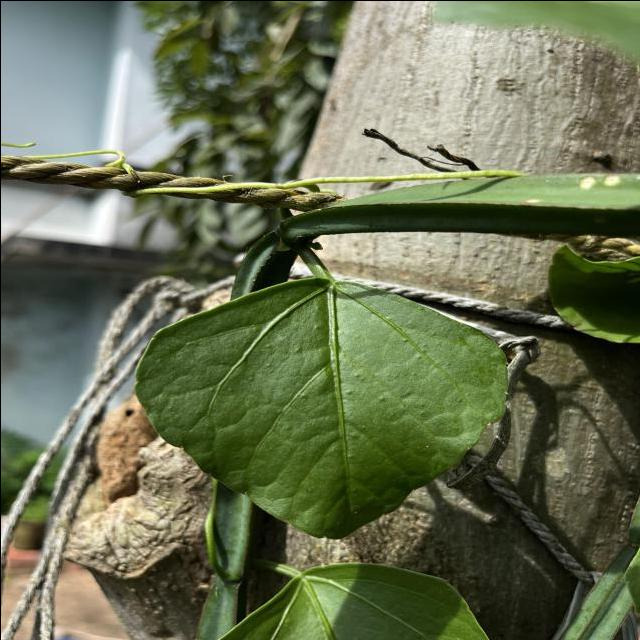Cissus quadrangularis: (132, 274, 510, 540)
